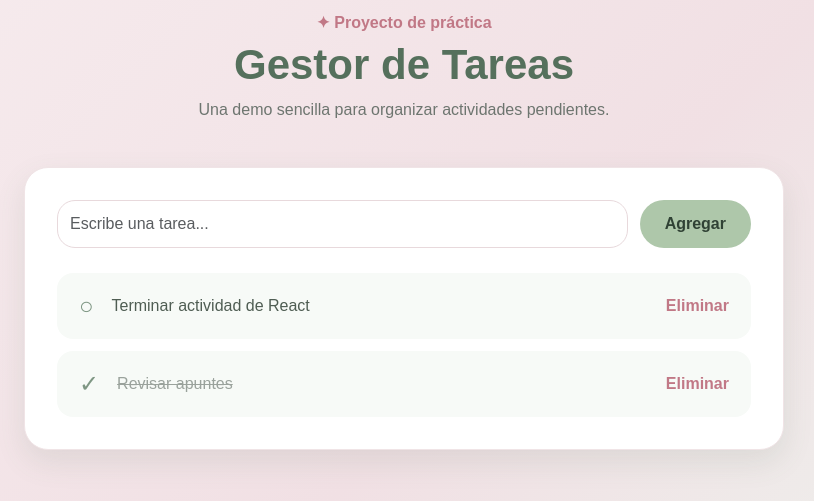
it: DemoTareas › elimina una tarea
Click the button "Eliminar" in the row of "Terminar actividad de React". click: click(697, 306)
box: [660, 293, 735, 319]
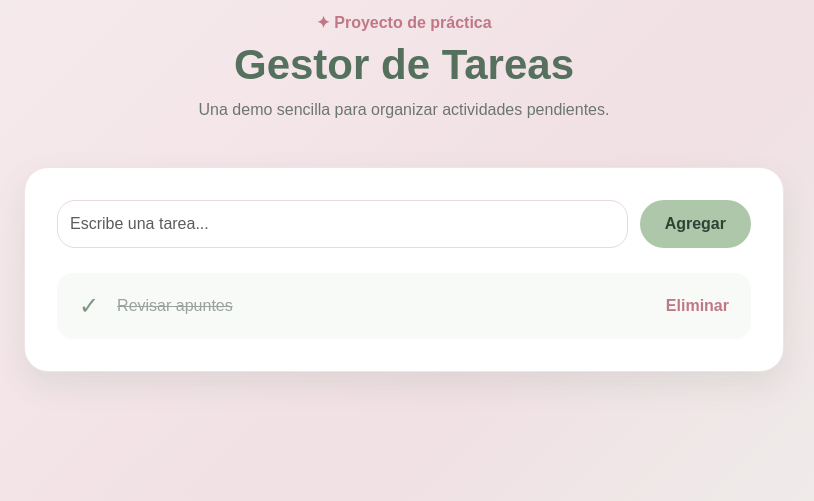
Result: the text "Terminar actividad de React" is gone
